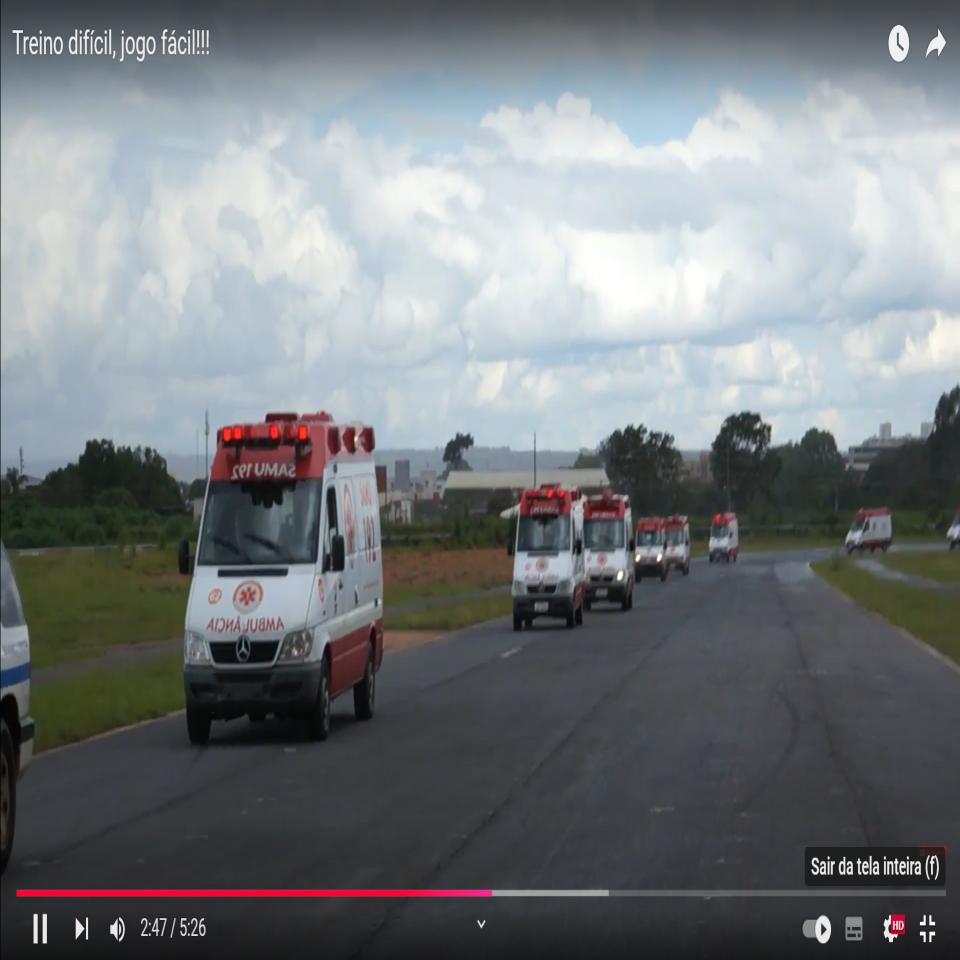bombeiro: (176, 409, 384, 740), (506, 480, 584, 630), (577, 489, 637, 613)
